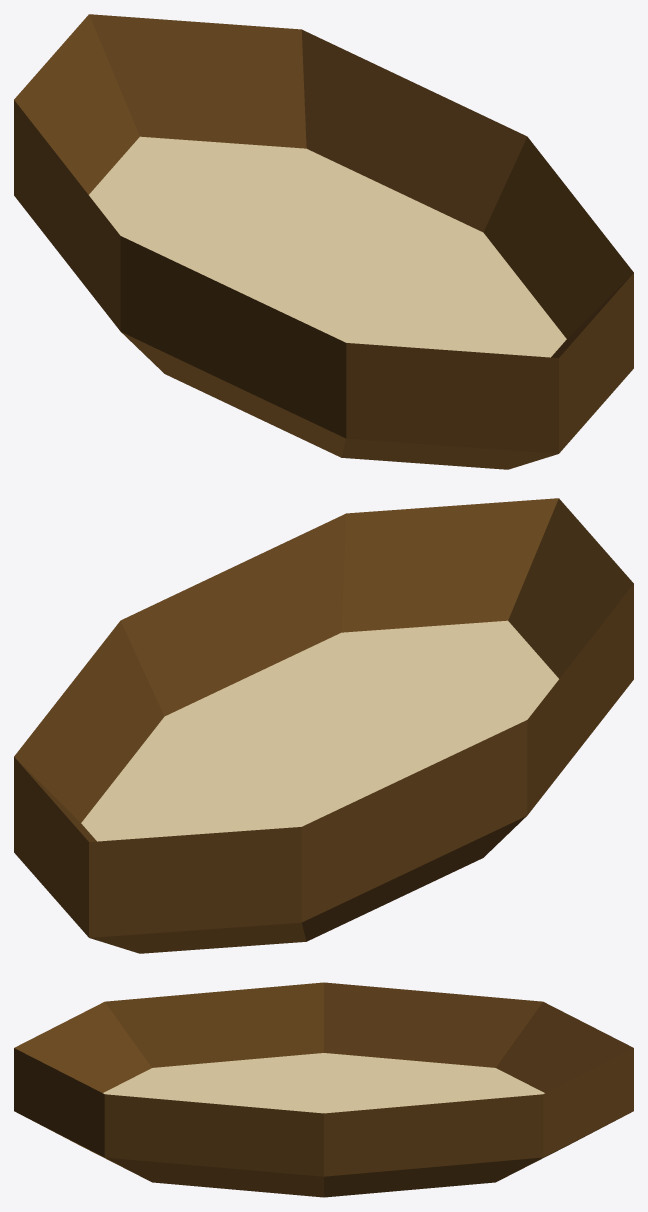
File: Boat.fbx
3 renders of one model, top to bottom at view 1: azimuth 30°, elevation 25°; view 2: azimuth 150°, elevation 25°; view 3: azimuth 270°, elevation 25°, orthographic. The views are drawn at different scales.
Parts seen in each view (by area): view 1: Boat; view 2: Boat; view 3: Boat.
Boxes of the visible parts, x1=… form: Boat: x1=14, y1=14, x2=633, y2=469; Boat: x1=14, y1=498, x2=633, y2=953; Boat: x1=14, y1=982, x2=633, y2=1197.
Bounding box in the file's own units: 2000 × 699 × 4000.
